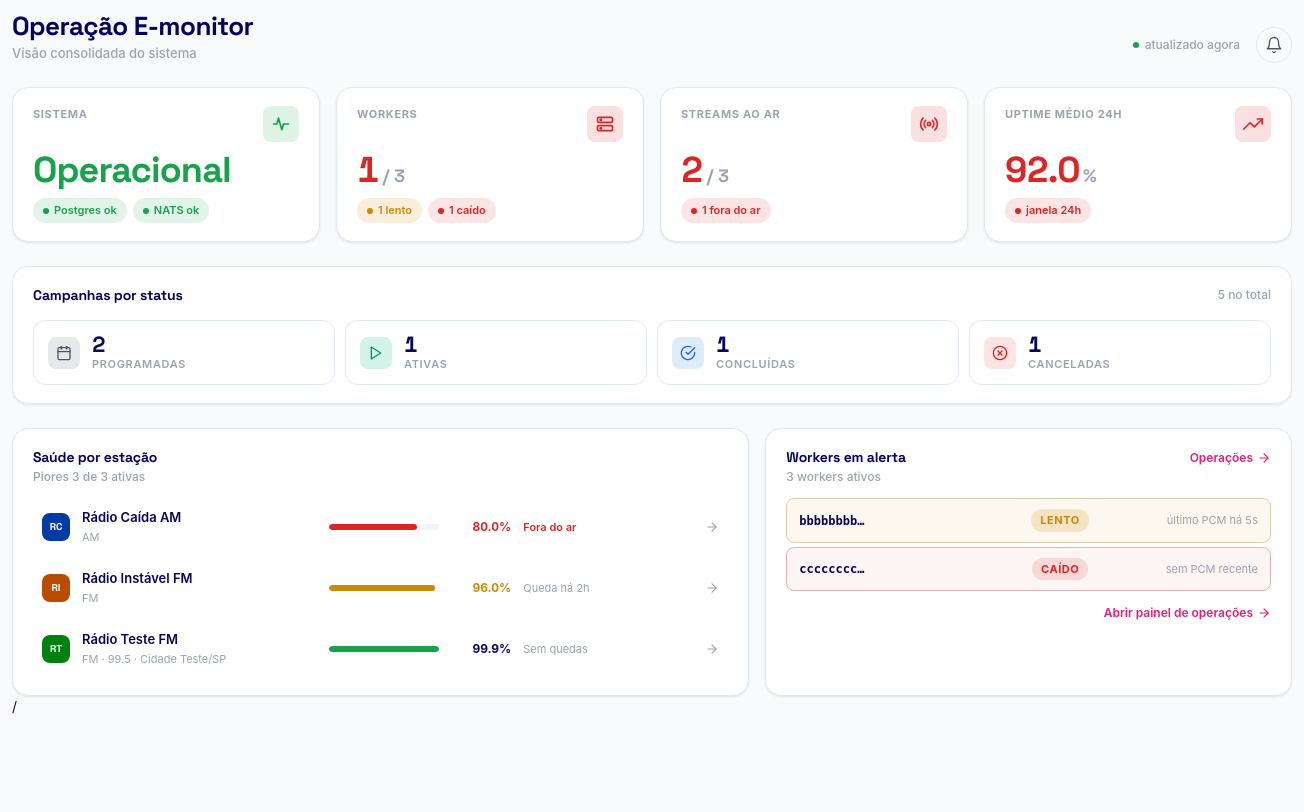
Test: DashboardPage — admin › workers em alerta mostram só lento/caído e levam pra /operations
The width and height of the screenshot is (1304, 812).
Check: the text "bbbbbbbb…" is shown, box [799, 514, 864, 528]
Check: the text "cccccccc…" is shown, box [799, 562, 864, 576]
Click the button "Abrir painel de operações". click: [1187, 613]
box: [1104, 606, 1271, 620]
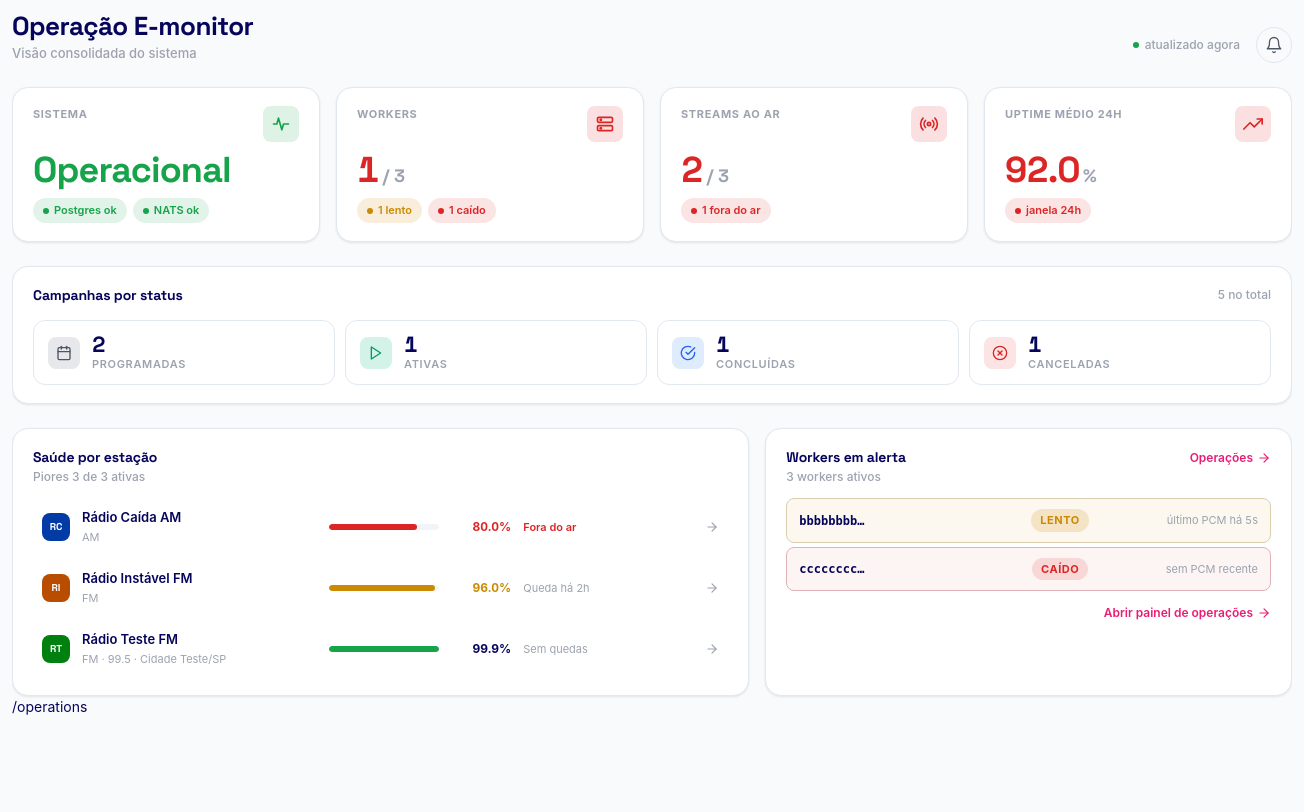
Check: the text with test id "local" reads "/operations", box [12, 698, 87, 716]
